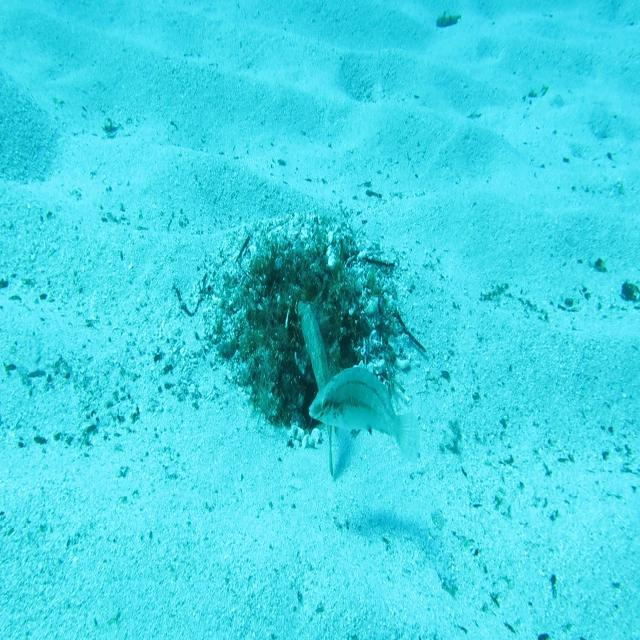FAN: (295, 295, 336, 482)
core_nest: (278, 260, 324, 297)
female: (307, 361, 424, 470)
nest: (196, 200, 418, 452)
vegetation: (436, 11, 462, 27)
